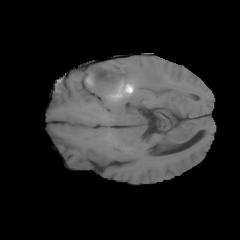glioma: (84, 59, 167, 106)
